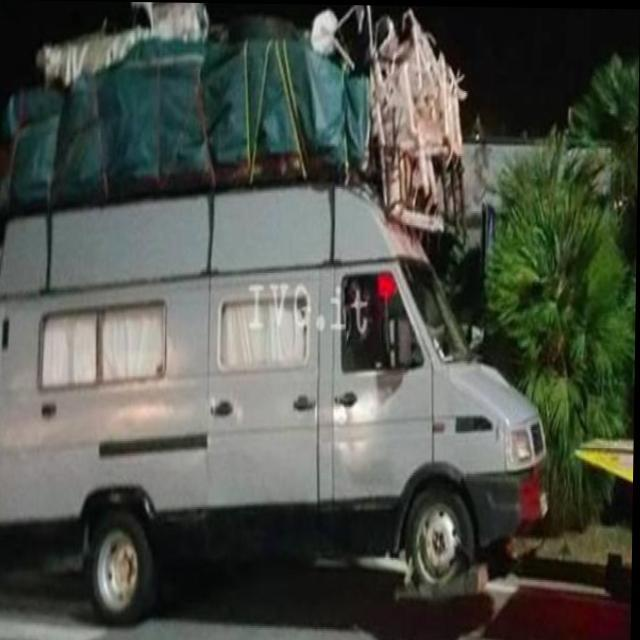uncovered: (0, 0, 544, 603)
